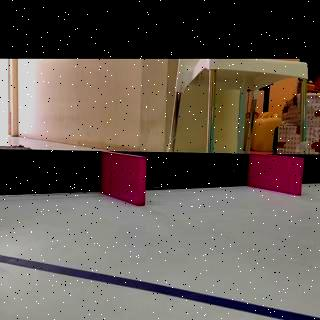xparking: (102, 157, 146, 206), (252, 157, 300, 195)
